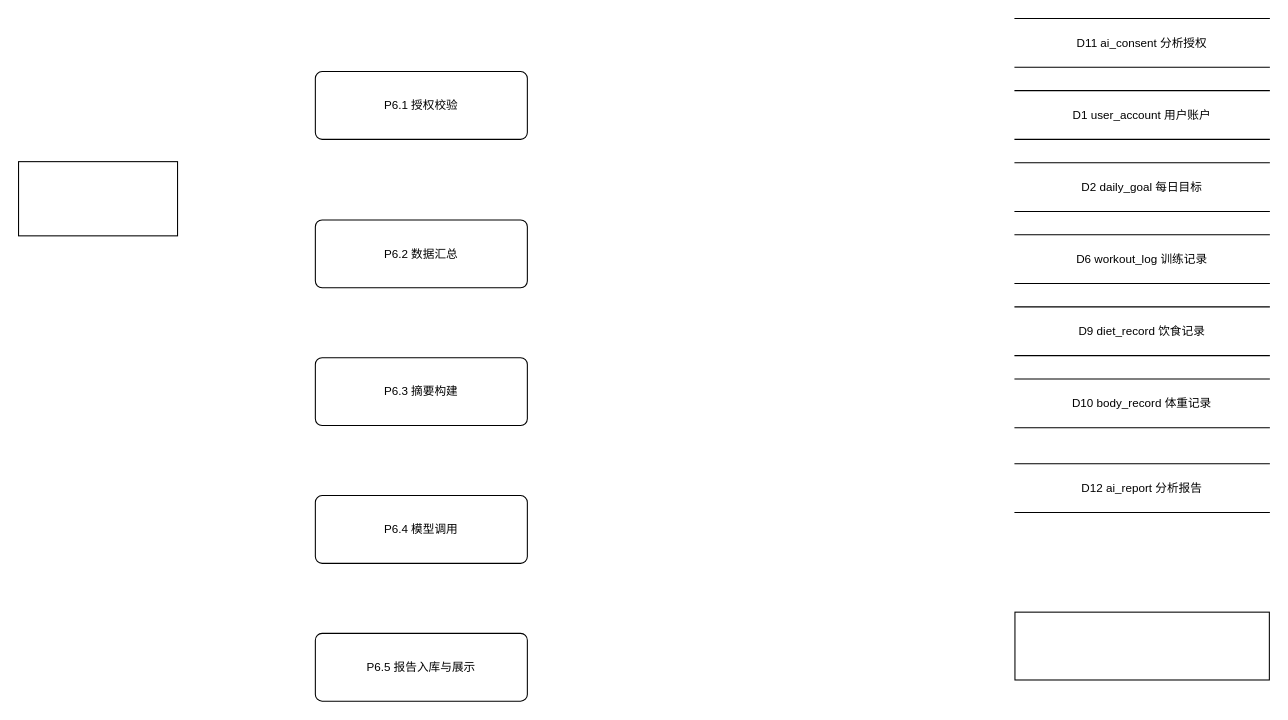
Some shapes in this 1288 by 720 pixel diagram are drawn without their labels. The box of each missing label's shape, as (x1, y1, x2, y2) in pixels:
E1 普通用户: (17, 161, 178, 236)
E3 AI 模型服务 Ollama / Qwen3-4B: (1014, 611, 1269, 680)
